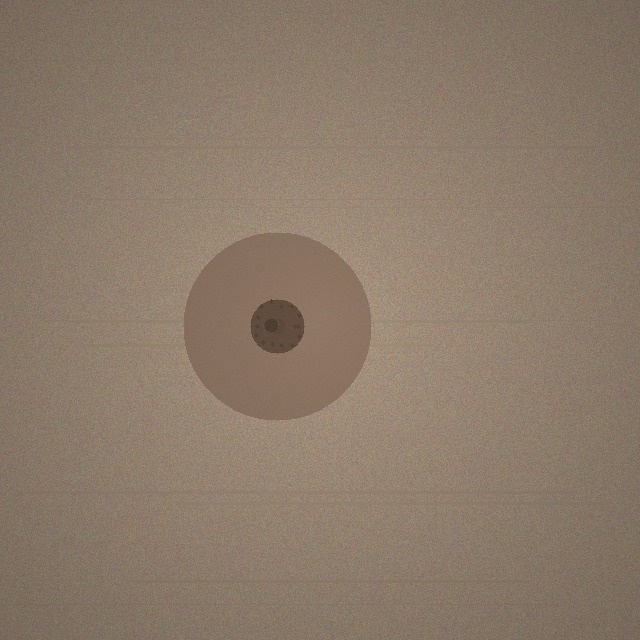cold_weld: (183, 232, 371, 420)
